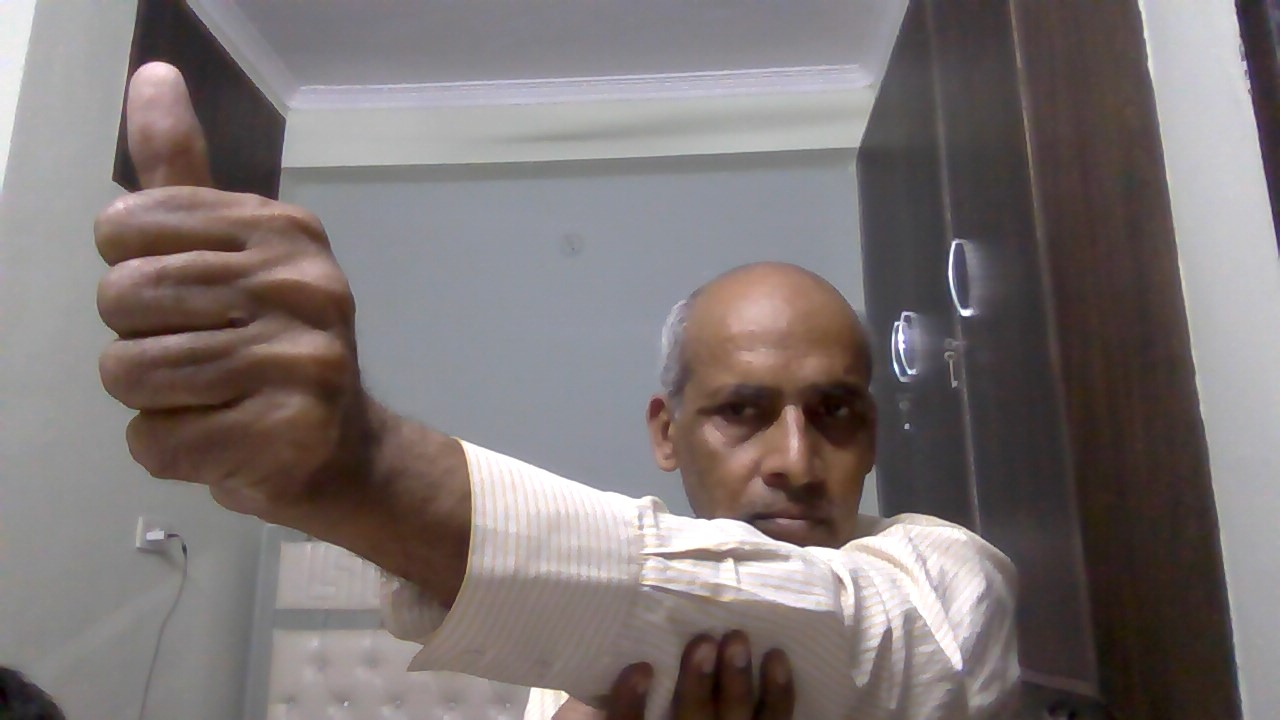Save: (84, 53, 379, 552)
